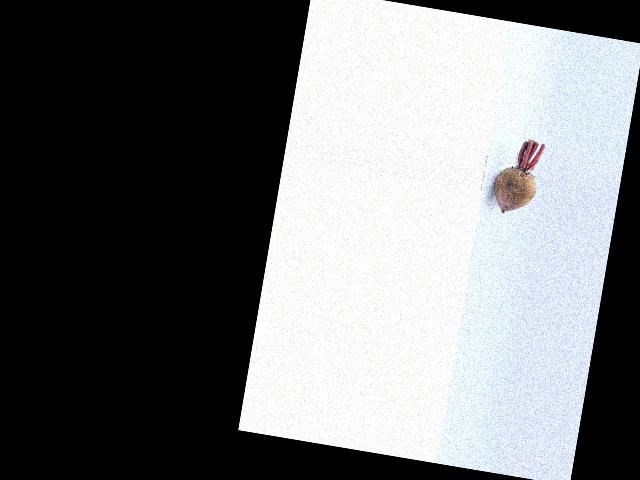beet: (490, 136, 544, 217)
